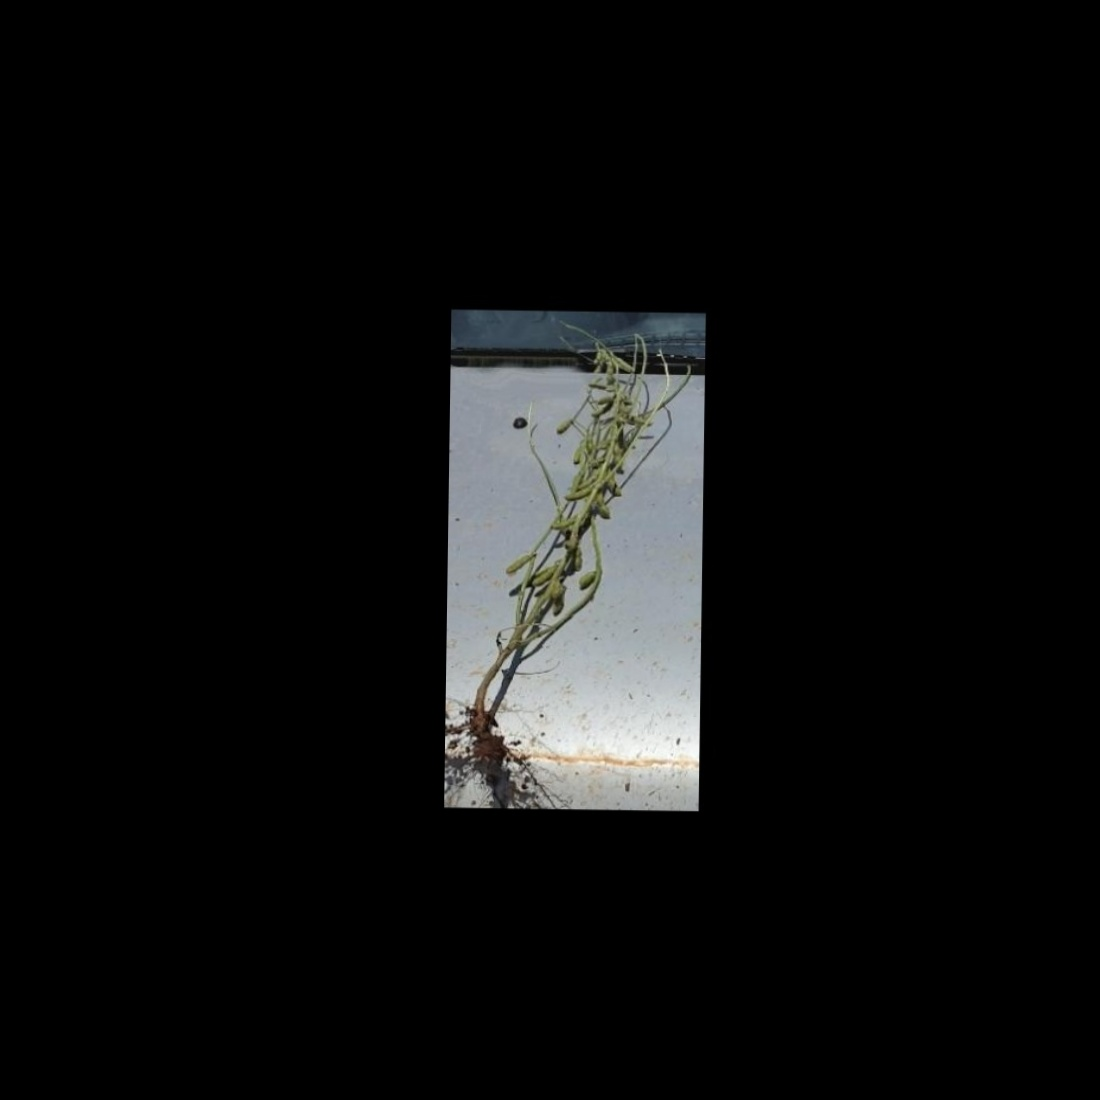pod: (504, 550, 536, 575), (528, 566, 557, 588), (547, 513, 581, 530), (577, 567, 601, 591), (596, 492, 609, 520), (554, 417, 574, 435)
soy: (452, 317, 701, 770)
